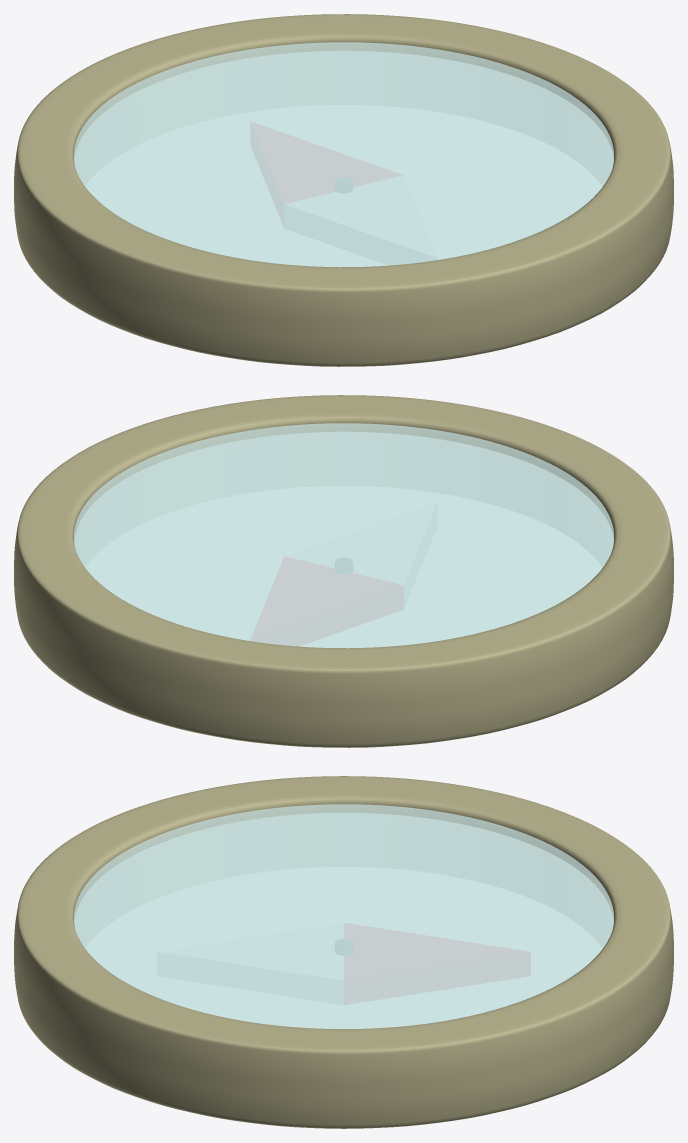
Rendered from Compas.fbx.
3 renders of one model, top to bottom at view 1: azimuth 30°, elevation 25°; view 2: azimuth 150°, elevation 25°; view 3: azimuth 270°, elevation 25°, orthographic.
Parts seen in each view (by area): view 1: Cylinder, Cylinder.001; view 2: Cylinder, Cylinder.001; view 3: Cylinder, Cylinder.001.
Boxes of the visible parts, x1=… form: Cylinder: x1=14, y1=14, x2=673, y2=366; Cylinder.001: x1=74, y1=42, x2=613, y2=267; Cylinder: x1=14, y1=395, x2=673, y2=747; Cylinder.001: x1=74, y1=423, x2=613, y2=648; Cylinder: x1=14, y1=776, x2=673, y2=1128; Cylinder.001: x1=74, y1=804, x2=613, y2=1028.
Size of the model in its own units: 201 by 26.71 by 201.
